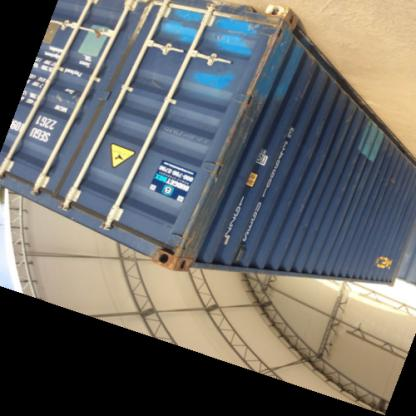Damage: (154, 194, 216, 269), (216, 99, 266, 181), (249, 16, 290, 102), (229, 9, 295, 32), (127, 0, 163, 42)
